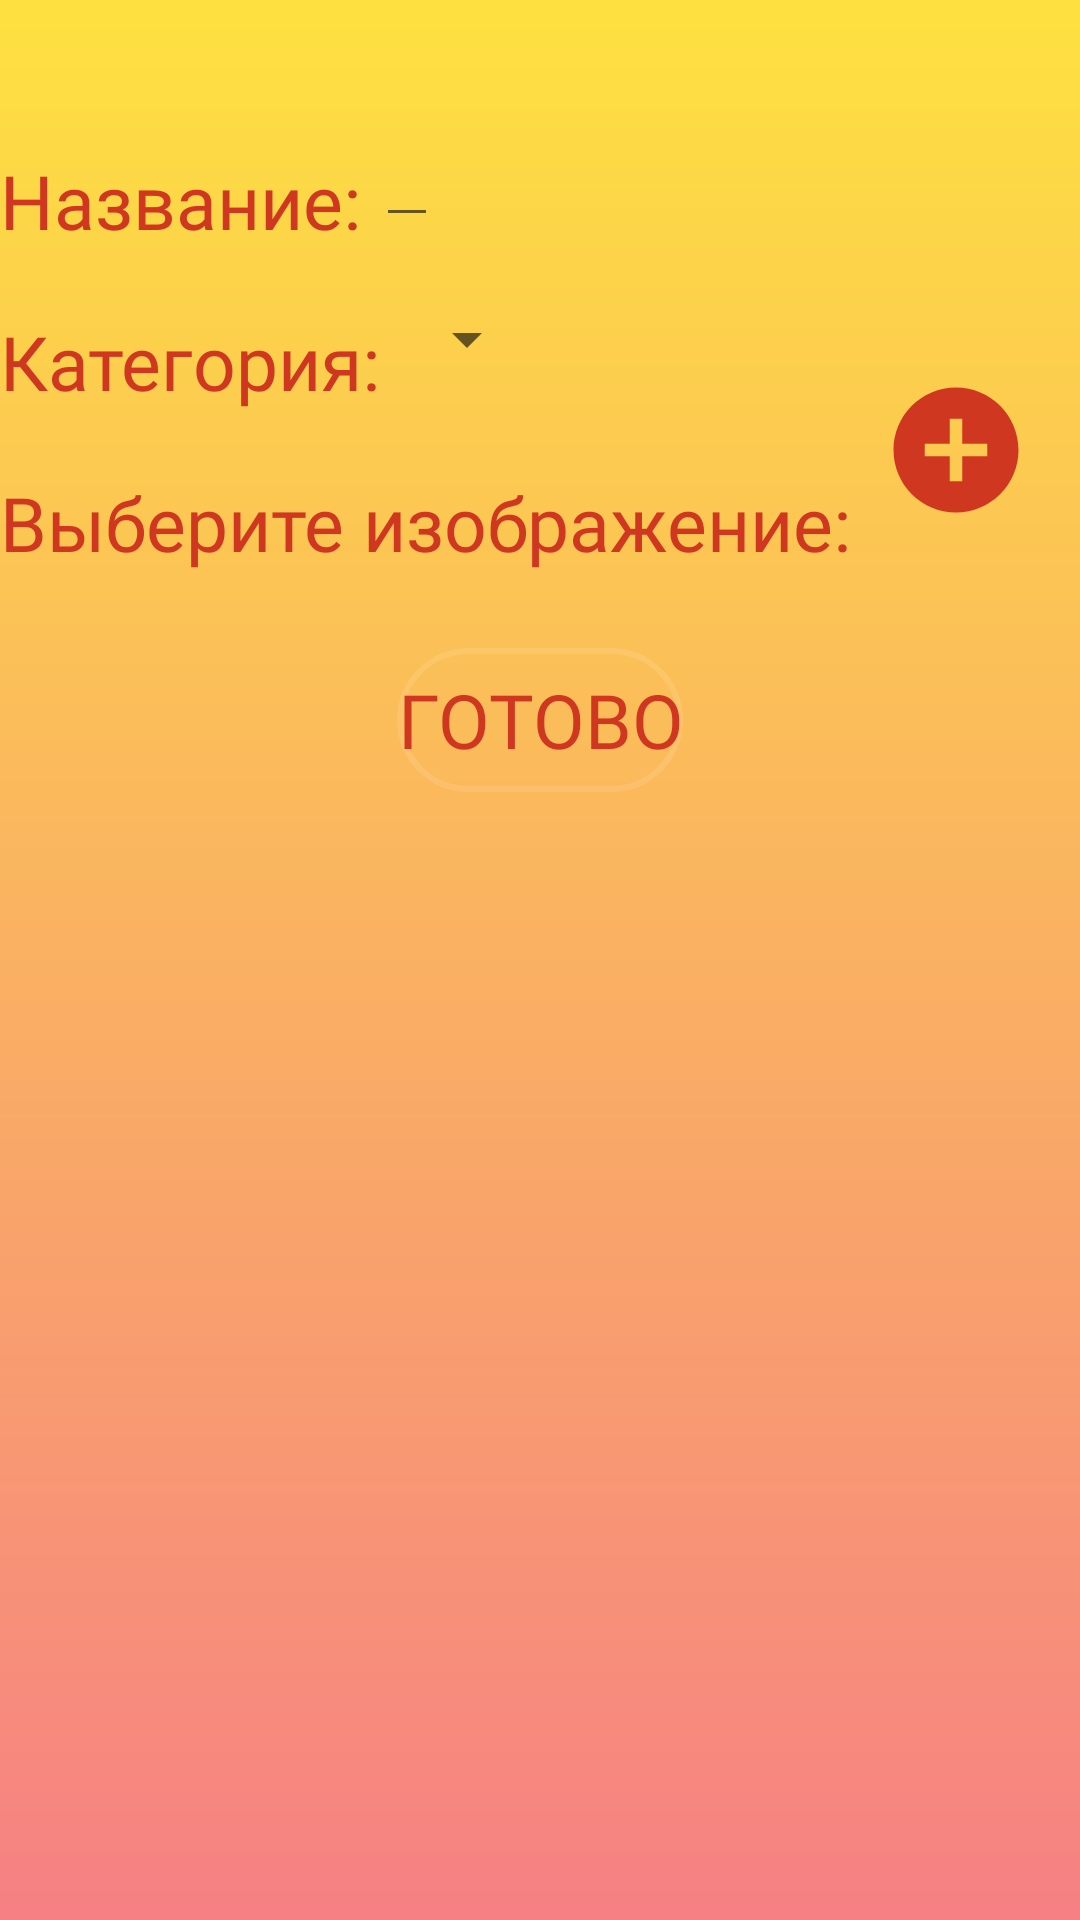

Where to tap for icons on this 1080px x 1920px app screen, as [x,y]:
add: [956,450]
